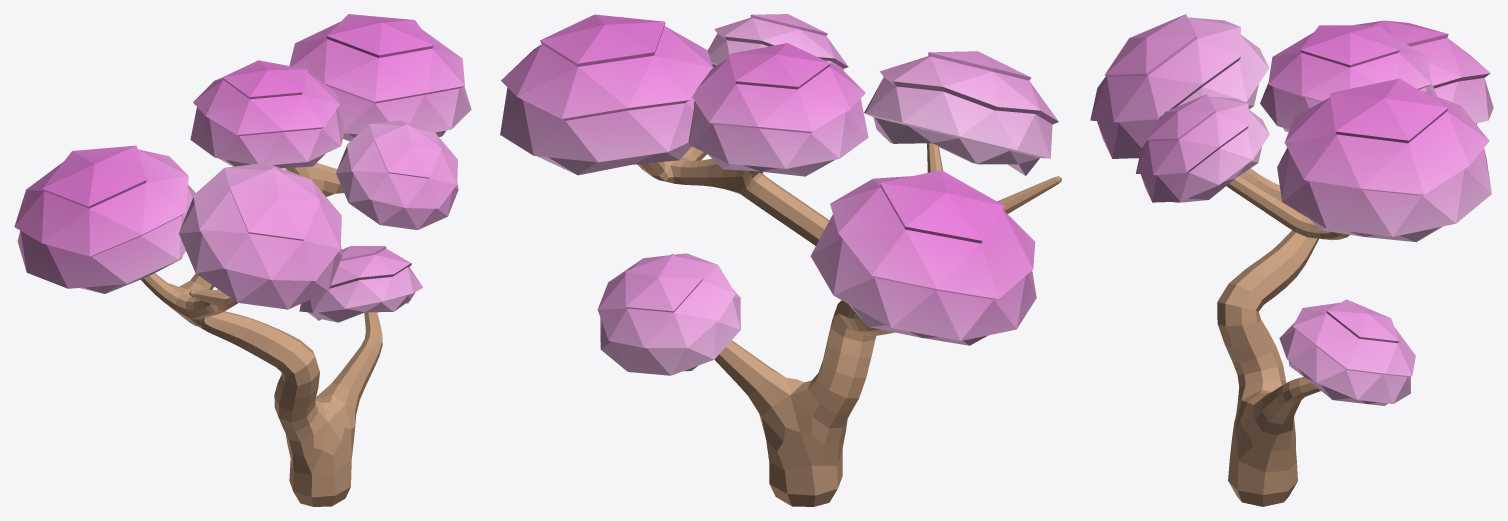
The model's file is Tree_Cherry_2.fbx.
3 views of the same model, side by side, from view 1: azimuth 30°, elevation 25°; view 2: azimuth 150°, elevation 25°; view 3: azimuth 270°, elevation 25° (orthographic). The views are drawn at different scales.
Parts seen in each view (by area): view 1: Leaves.010, Leaves.007, Cube.001, Leaves.008, Leaves.006, Leaves.009, Leaves.011; view 2: Leaves.010, Leaves.008, Cube.001, Leaves.006, Leaves.007, Leaves.011, Leaves.009; view 3: Leaves.008, Cube.001, Leaves.007, Leaves.011, Leaves.009, Leaves.006, Leaves.010.
Boxes of the visible parts, x1,y1,x2,y2 form: Leaves.010: [14, 145, 195, 293]; Leaves.007: [179, 163, 342, 309]; Cube.001: [141, 163, 382, 506]; Leaves.008: [289, 14, 471, 141]; Leaves.006: [190, 60, 344, 168]; Leaves.009: [336, 120, 458, 229]; Leaves.011: [299, 246, 422, 322]; Leaves.010: [810, 170, 1036, 345]; Leaves.008: [500, 14, 713, 175]; Cube.001: [637, 143, 1061, 506]; Leaves.006: [688, 43, 868, 176]; Leaves.007: [864, 51, 1058, 175]; Leaves.011: [597, 253, 740, 375]; Leaves.009: [708, 14, 848, 70]; Leaves.008: [1277, 78, 1491, 242]; Cube.001: [1217, 168, 1349, 506]; Leaves.007: [1090, 14, 1269, 158]; Leaves.011: [1279, 299, 1415, 405]; Leaves.009: [1136, 94, 1269, 202]; Leaves.006: [1260, 25, 1437, 132]; Leaves.010: [1353, 20, 1493, 124].
Bounding box in the file's own units: 409 × 378 × 296.
Materials: 3 (2 with a texture image).
